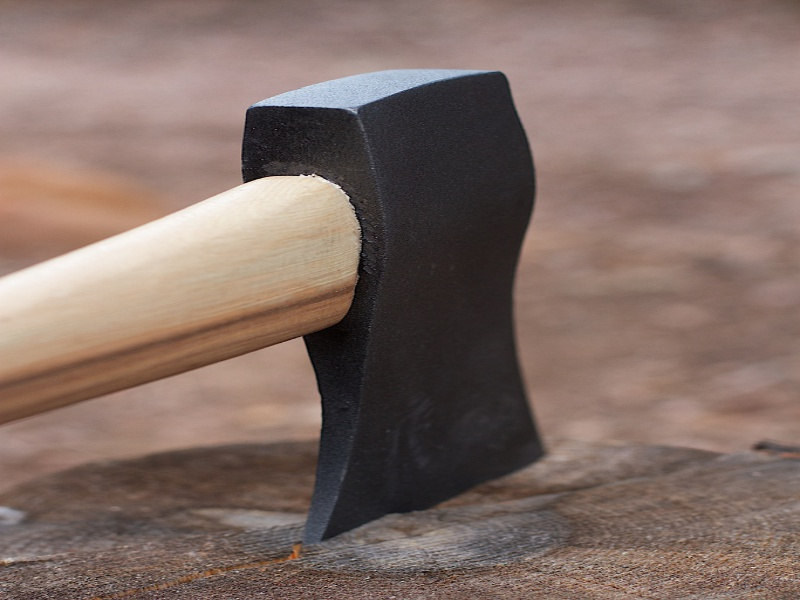axe: (9, 64, 559, 548)
